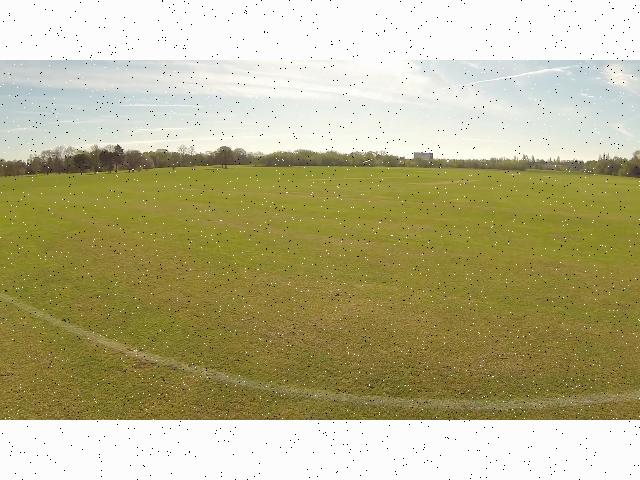Anti-Drone: (358, 156, 378, 166)
